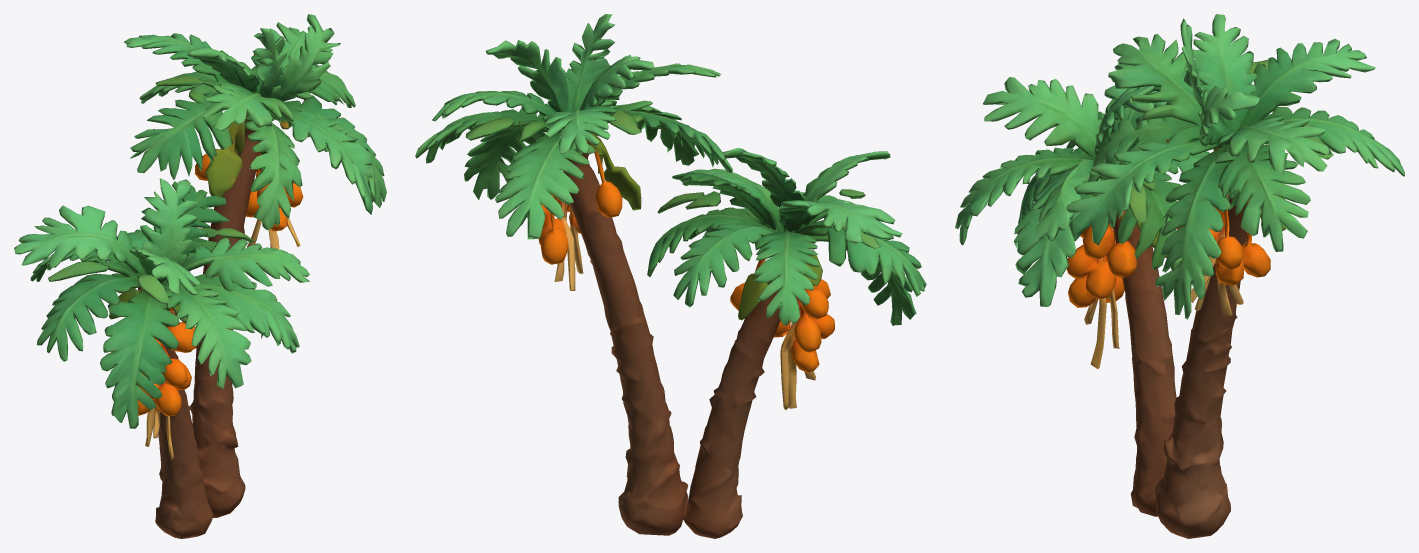
The model's file is date_palm.glb.
The picture shows the model from 3 angles, left to right: view 1: azimuth 30°, elevation 25°; view 2: azimuth 150°, elevation 25°; view 3: azimuth 270°, elevation 25°; orthographic projection. The views are drawn at different scales.
Parts seen in each view (by area): view 1: tripo_node_6830c155-cf58-4f87-bfd5-e7e22c999ac0; view 2: tripo_node_6830c155-cf58-4f87-bfd5-e7e22c999ac0; view 3: tripo_node_6830c155-cf58-4f87-bfd5-e7e22c999ac0.
Part boxes in pixels (bbox=[...]): tripo_node_6830c155-cf58-4f87-bfd5-e7e22c999ac0: bbox=[14, 14, 386, 538]; tripo_node_6830c155-cf58-4f87-bfd5-e7e22c999ac0: bbox=[415, 14, 926, 538]; tripo_node_6830c155-cf58-4f87-bfd5-e7e22c999ac0: bbox=[955, 14, 1404, 538].
Bounding box in the file's own units: 0.865 × 1 × 0.7609.
1 material, 1 textured.
